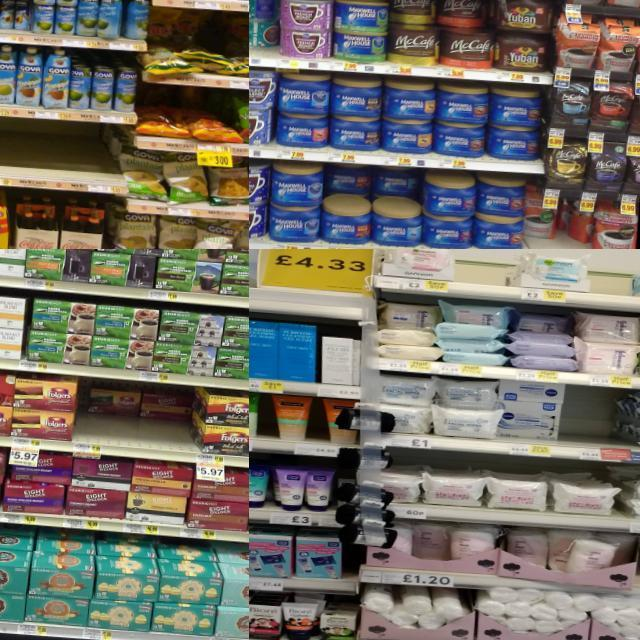Imprecise: (324, 164, 416, 242), (509, 302, 579, 378), (375, 293, 447, 362), (523, 180, 582, 248), (79, 386, 142, 448), (143, 390, 198, 448), (507, 527, 565, 568), (407, 519, 455, 560)
